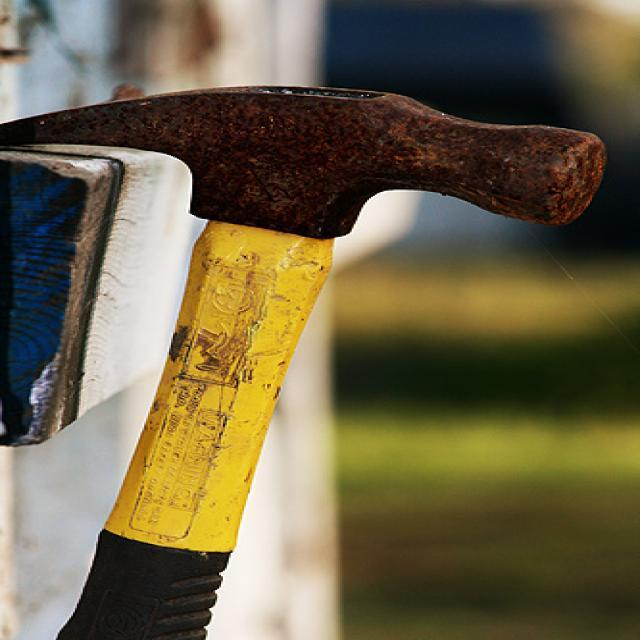hammer: (0, 75, 627, 640)
